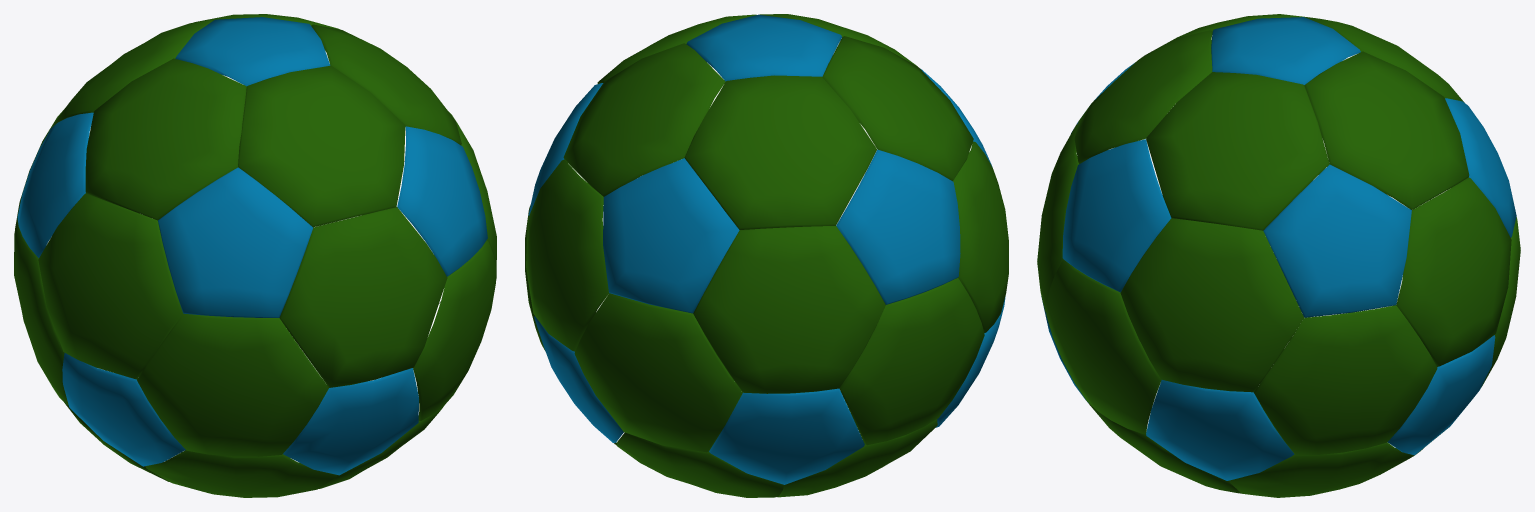
Rendered from Football.glb.
3 renders of one model, left to right at view 1: azimuth 30°, elevation 25°; view 2: azimuth 150°, elevation 25°; view 3: azimuth 270°, elevation 25°, orthographic.
Parts seen in each view (by area): view 1: Football; view 2: Football; view 3: Football.
Part boxes in pixels (<box>): Football: <box>14,14,496,497</box>; Football: <box>525,14,1008,497</box>; Football: <box>1037,14,1520,497</box>.
Size of the model in its own units: 2.28 by 2.28 by 2.28.
